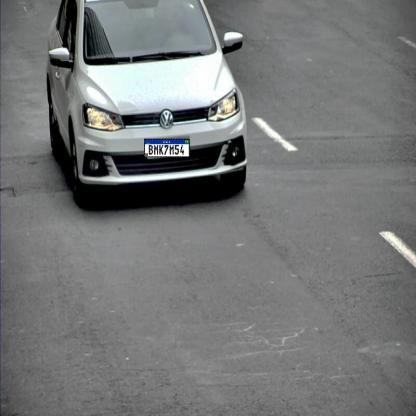PlacaM: (144, 139, 190, 157)
